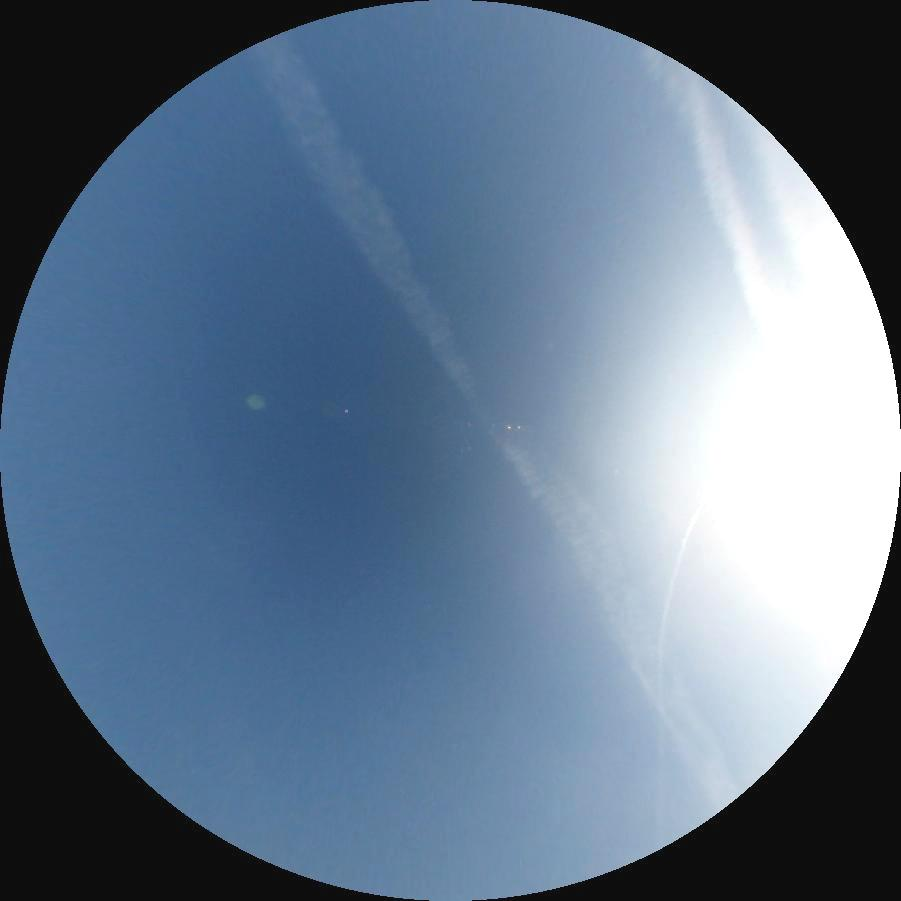contrail old: (636, 515, 696, 848)
contrail veryold: (235, 23, 765, 807), (726, 73, 893, 367), (640, 28, 796, 323)
